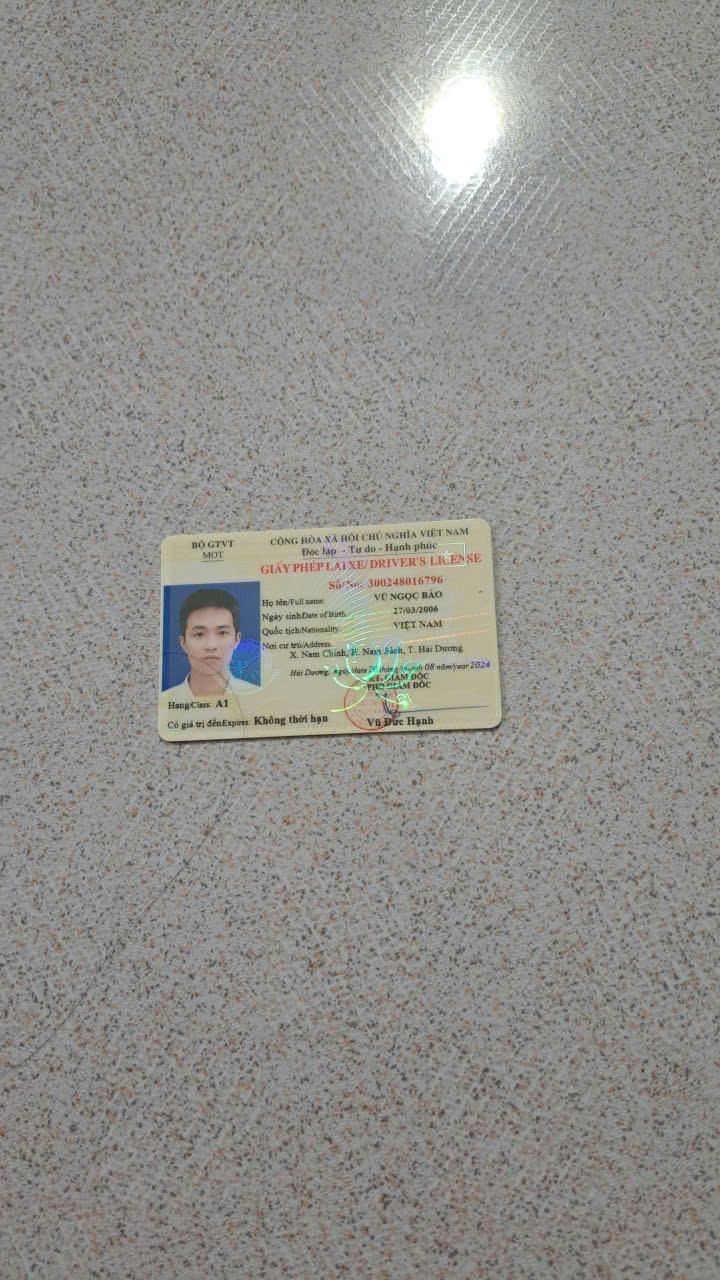gplx: (146, 511, 515, 745)
